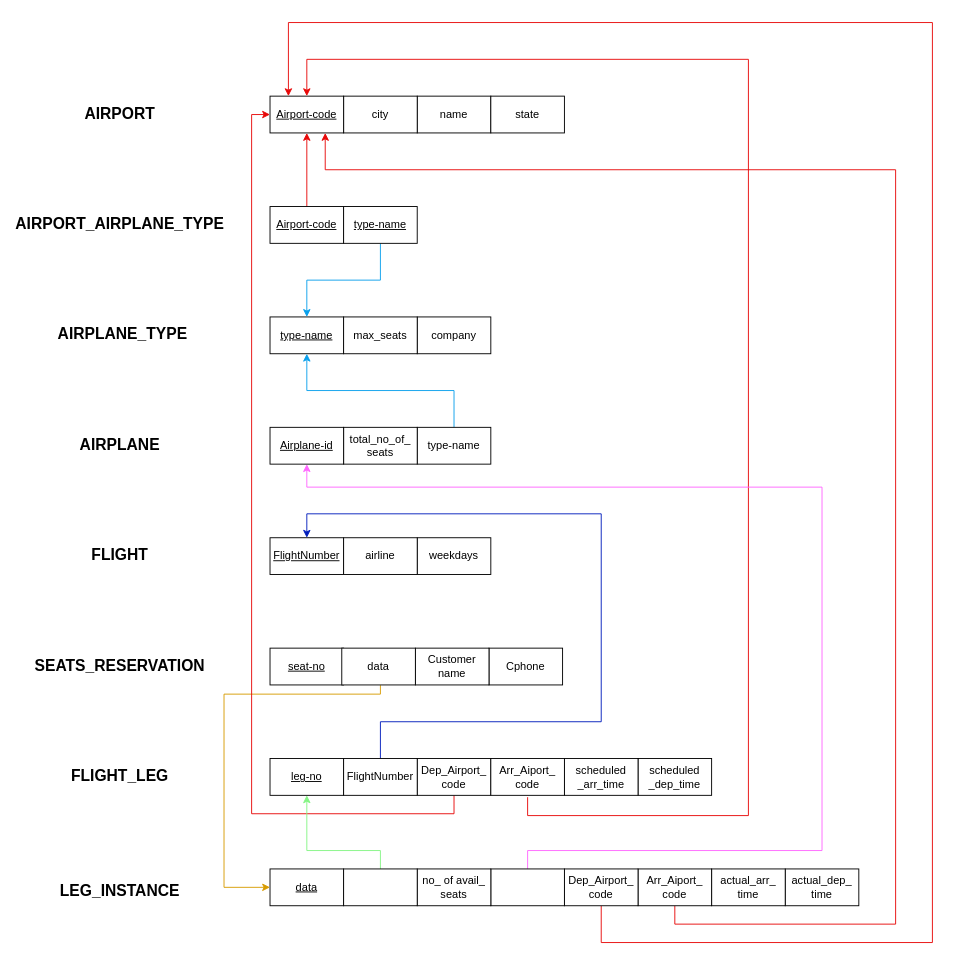
Image size: 956x966. Some labels were removed from this diagram. The shapes that lost their labels are listed below. From the top down, each one's centre as x and y in pixels, then its label:
At point (380, 887): "leg_no".
At point (527, 887): "Airplane_id".
